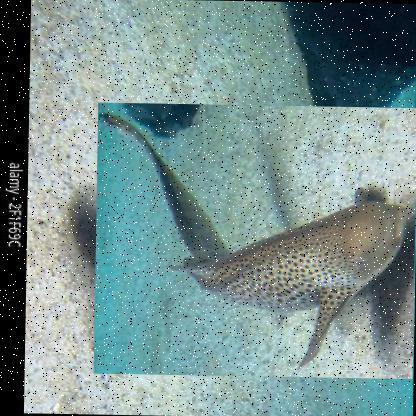zebra_shark: (91, 102, 415, 381)
